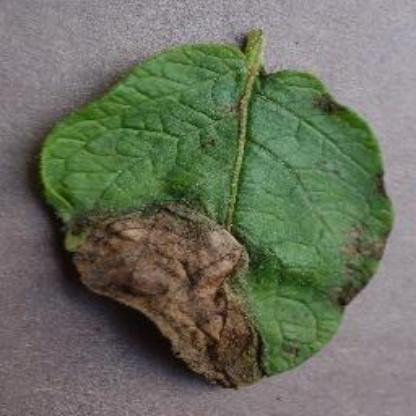Late-Blight: (29, 24, 395, 390)
